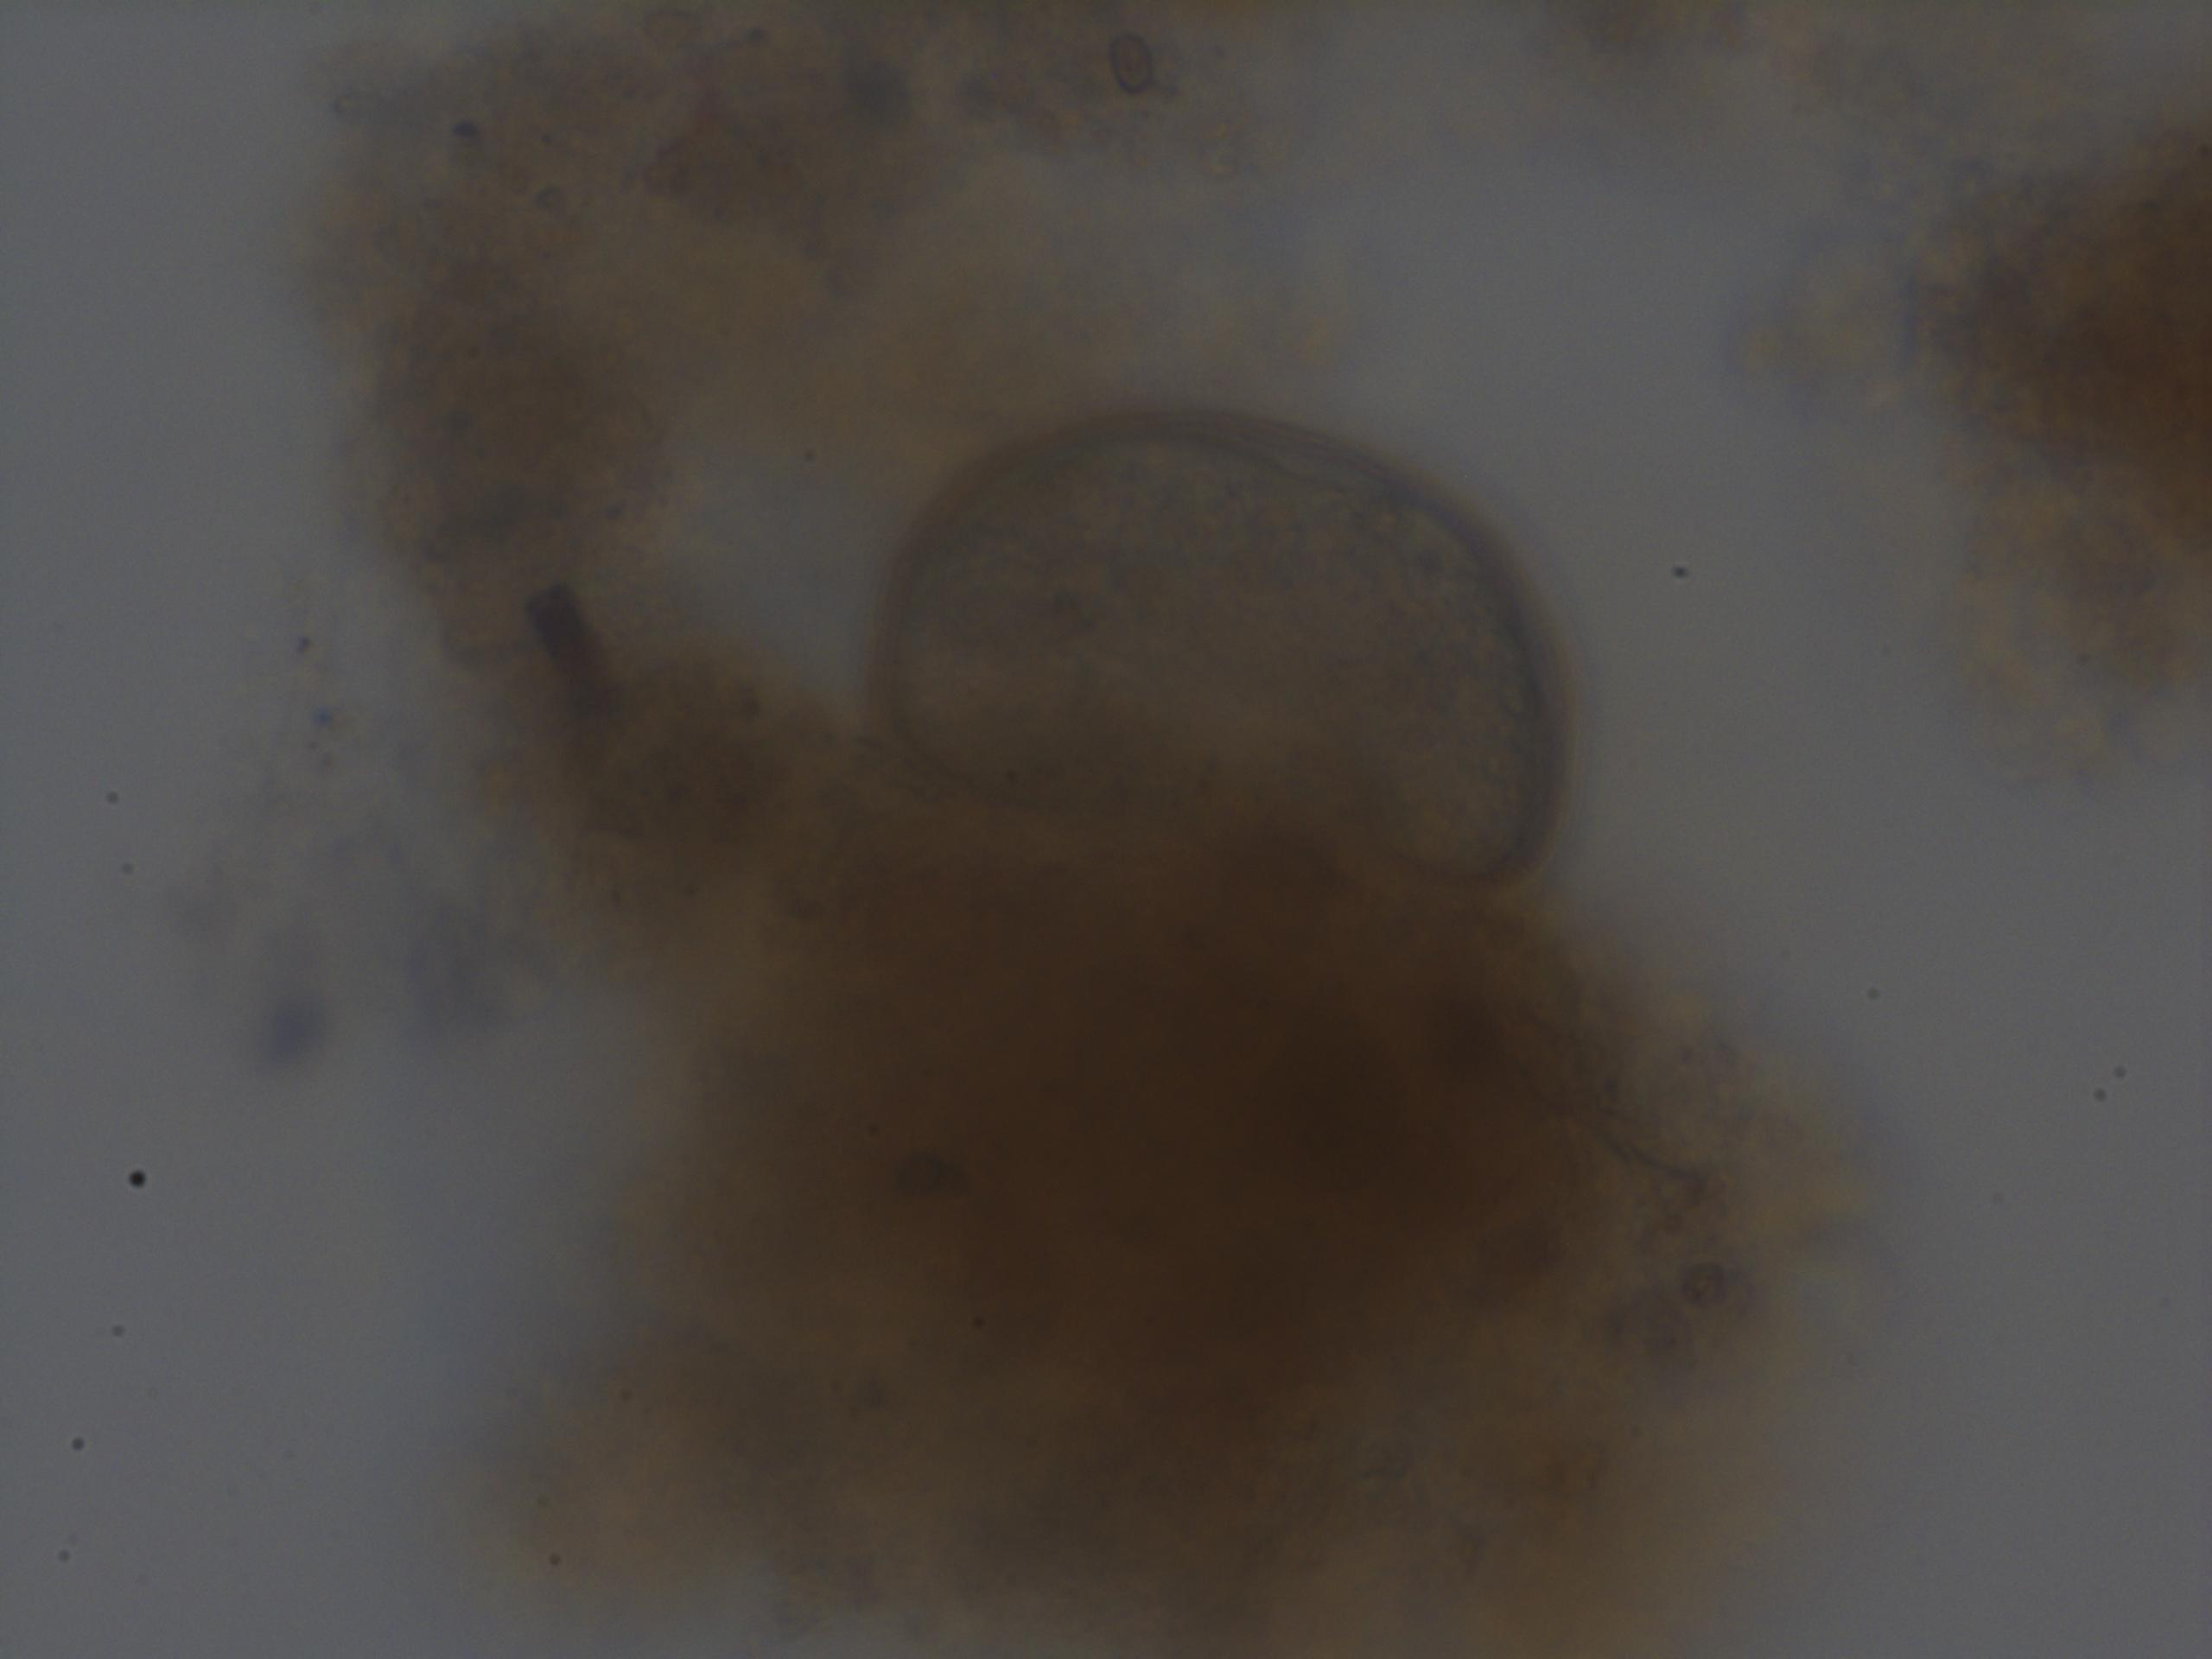protozoa: (871, 390, 1581, 897)
